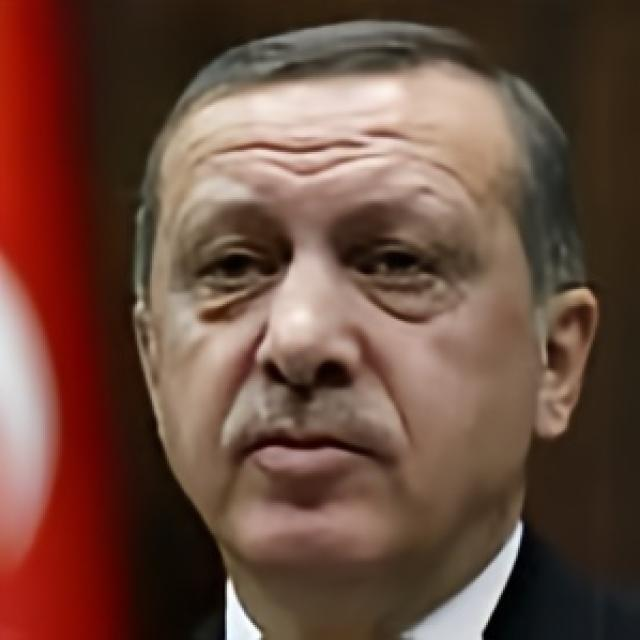anger: (145, 53, 538, 570)
